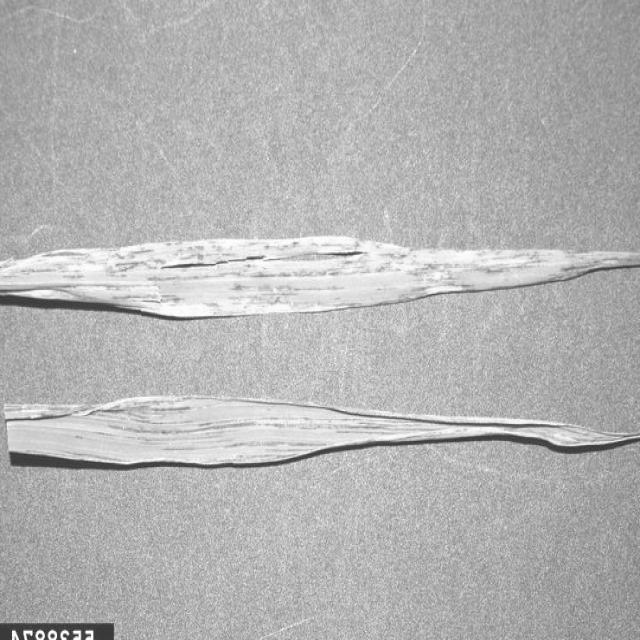Bacterial_Leaf_Blight: (1, 222, 604, 318), (16, 376, 586, 434)
